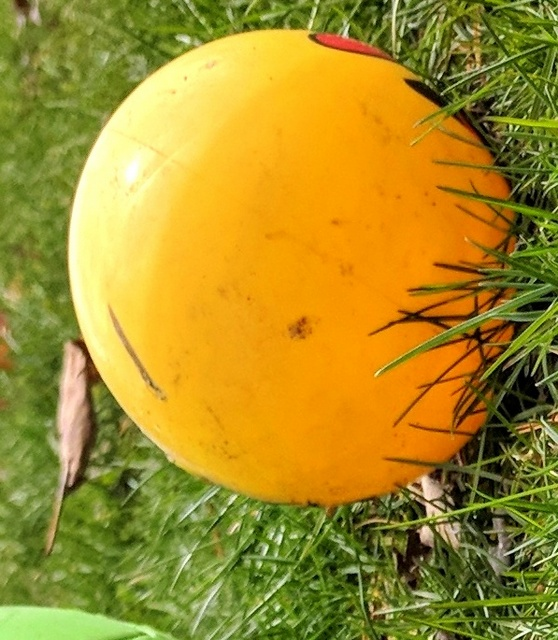ball: (67, 28, 524, 512)
